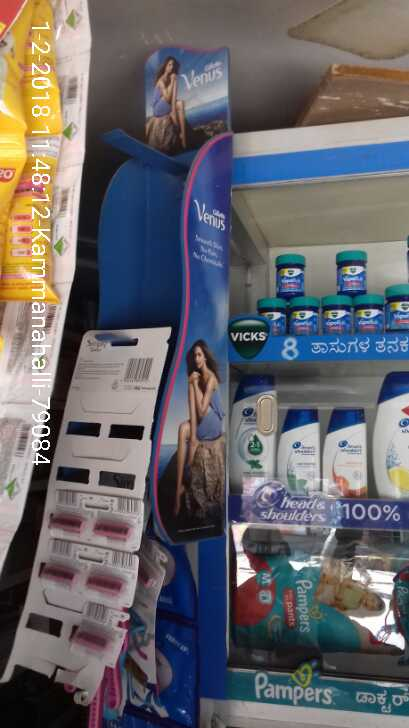beauty: (323, 400, 369, 496), (233, 381, 276, 481), (375, 372, 409, 496), (278, 401, 321, 493)
pharmacy: (230, 549, 409, 652), (258, 245, 316, 299), (333, 249, 372, 288), (353, 294, 390, 334), (291, 295, 323, 335), (255, 297, 289, 331), (384, 286, 409, 332), (324, 299, 351, 334)
